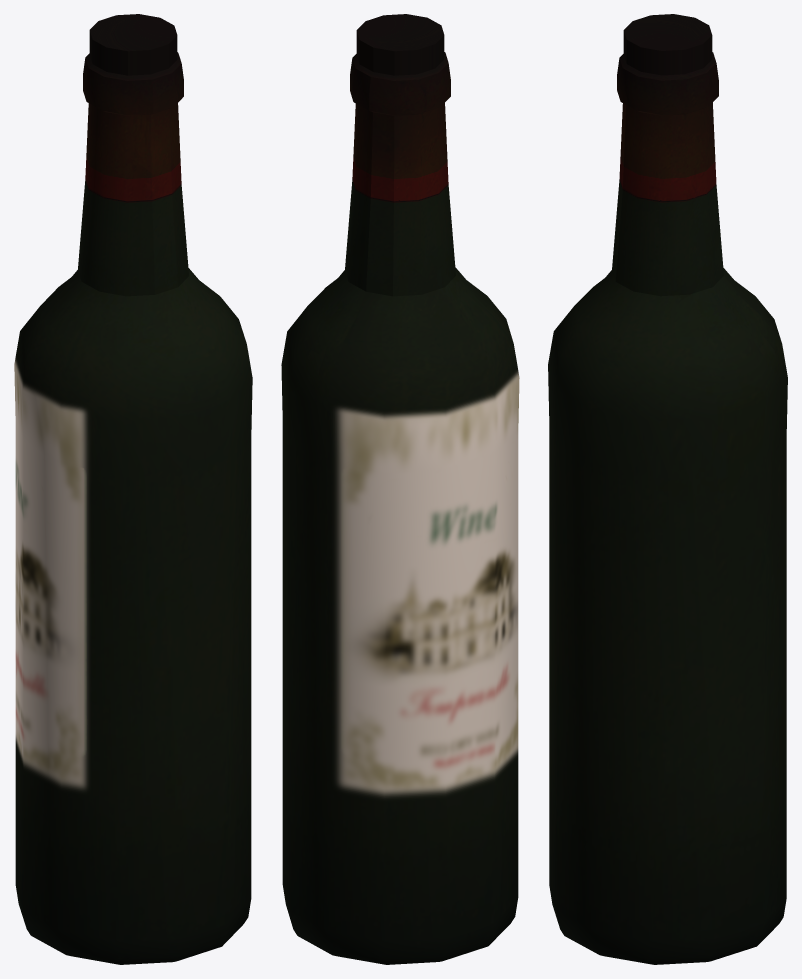
Rendered from Bottle 3.FBX.
The picture shows the model from 3 angles, left to right: view 1: azimuth 30°, elevation 25°; view 2: azimuth 150°, elevation 25°; view 3: azimuth 270°, elevation 25°; orthographic projection.
Visible parts, largest first — view 1: Bottle 3; view 2: Bottle 3; view 3: Bottle 3.
Part boxes in pixels (bbox=[...]): Bottle 3: bbox=[14, 14, 252, 964]; Bottle 3: bbox=[281, 14, 519, 964]; Bottle 3: bbox=[548, 14, 787, 964].
Bounding box in the file's own units: 17.36 × 71.66 × 17.52.
Materials: 1 (1 with a texture image).
